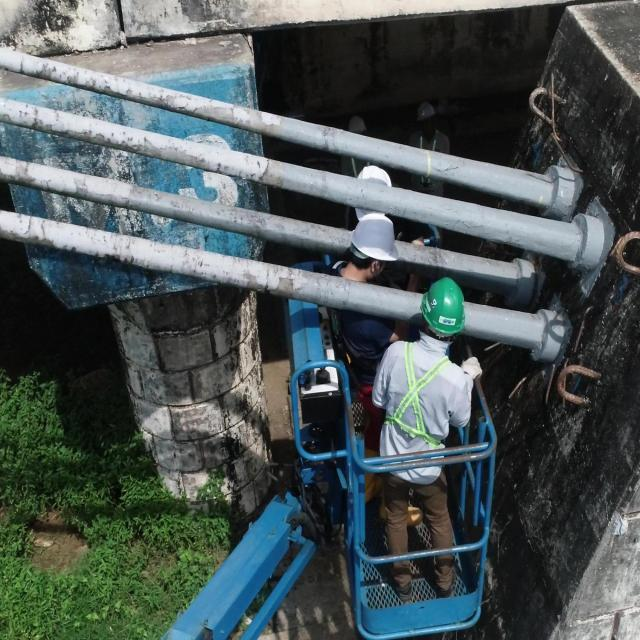crack: (23, 216, 32, 235), (332, 128, 336, 153), (40, 221, 46, 236), (45, 178, 52, 189), (265, 270, 269, 289), (127, 236, 131, 250), (217, 163, 221, 173), (250, 172, 255, 179), (20, 61, 23, 72), (238, 171, 242, 178), (50, 125, 52, 132)
